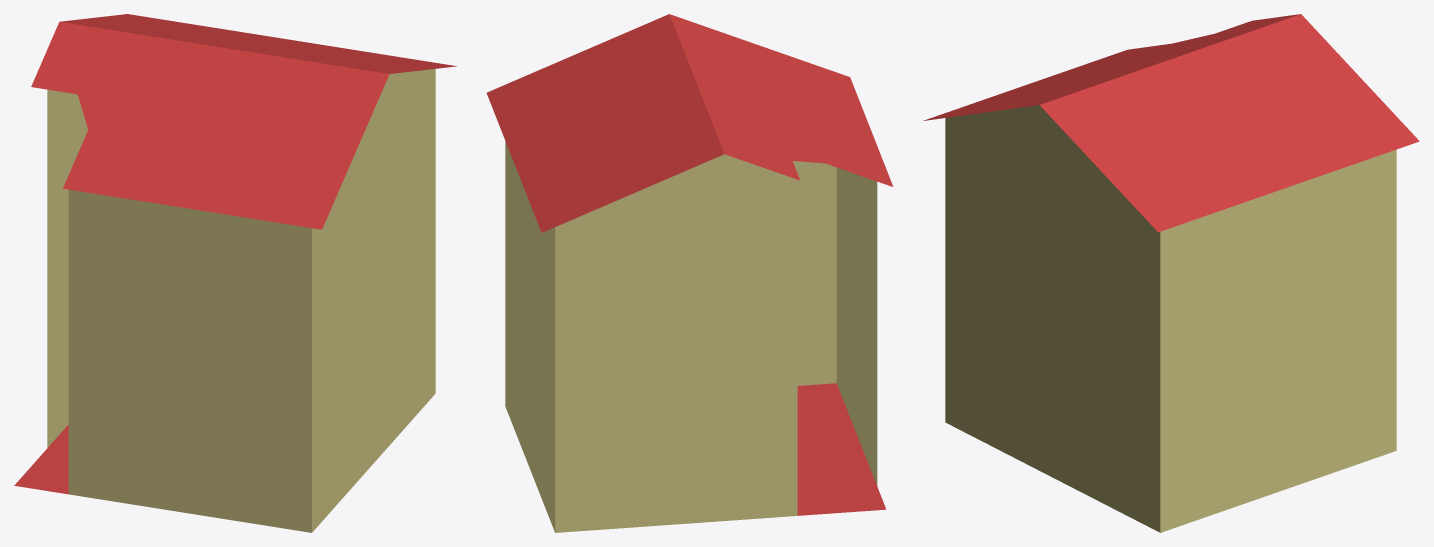
3 views of the same model, side by side, from view 1: azimuth 30°, elevation 25°; view 2: azimuth 150°, elevation 25°; view 3: azimuth 270°, elevation 25° (orthographic). The views are drawn at different scales.
Size of the model in its own units: 14.44 by 15.01 by 12.54.
